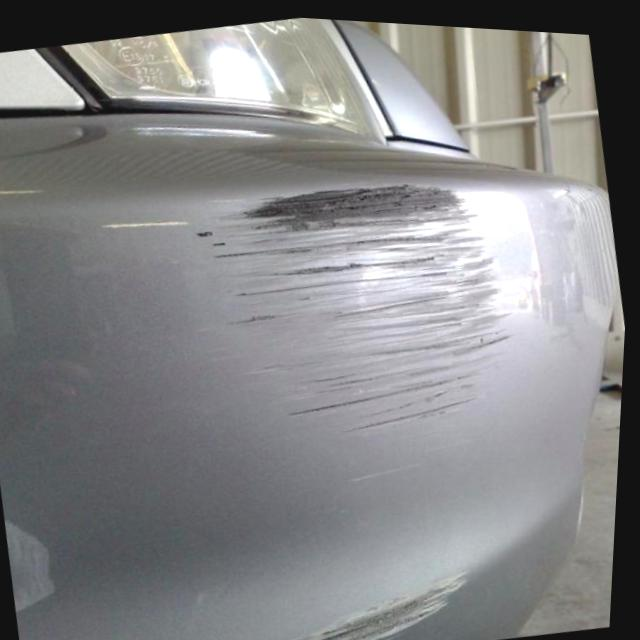Scratch: (211, 181, 503, 426), (278, 573, 464, 640)
